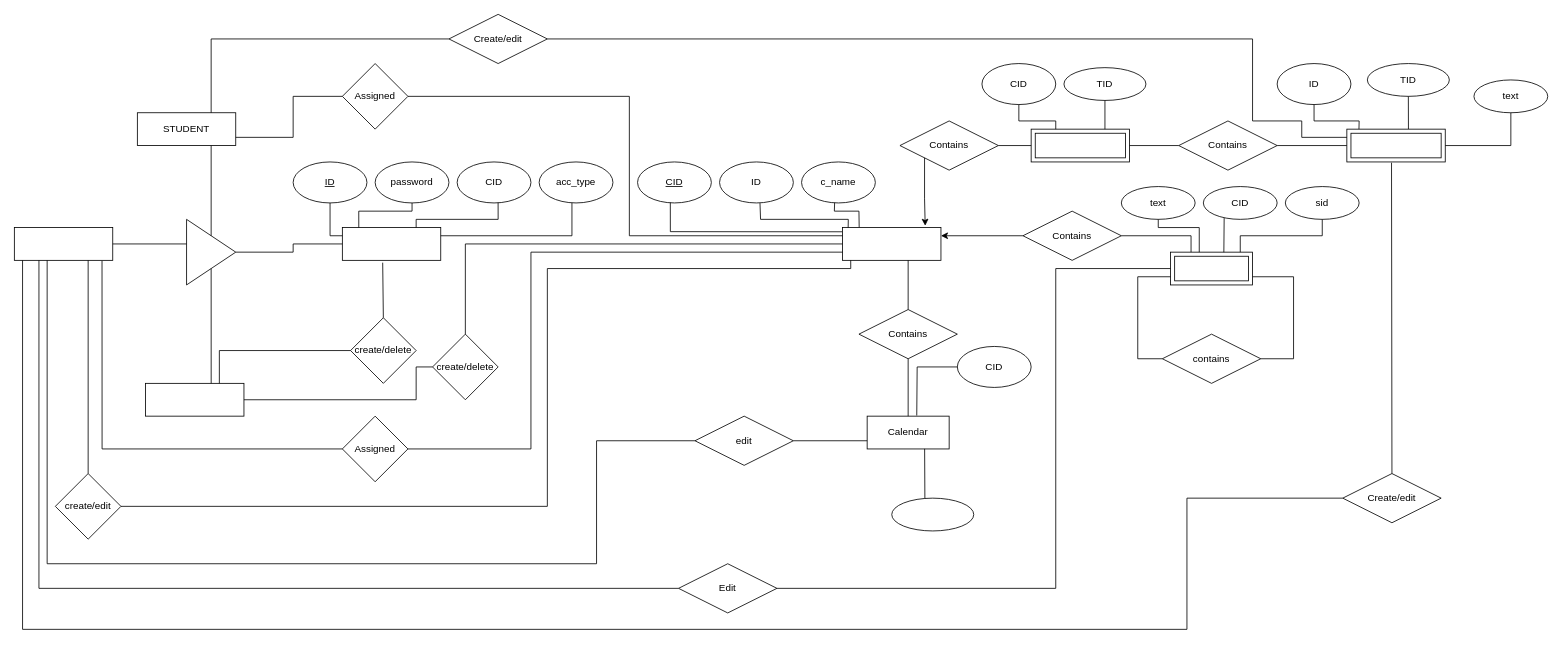
The diagram is 1562 pixels wide and 645 high, and some of its shapes have lost their labels. Here are the shapes that lost their labels. From the top down, the box of each, then its label:
(1030, 128, 1130, 162): discussion_forums
(1346, 128, 1445, 162): discussion_threads
(14, 227, 113, 260): LECTURER
(186, 219, 236, 285): ISA
(342, 227, 441, 260): ACCOUNT
(842, 227, 941, 260): Course
(1170, 251, 1253, 285): Section
(145, 383, 244, 416): ADMIN
(891, 497, 974, 531): due_date
